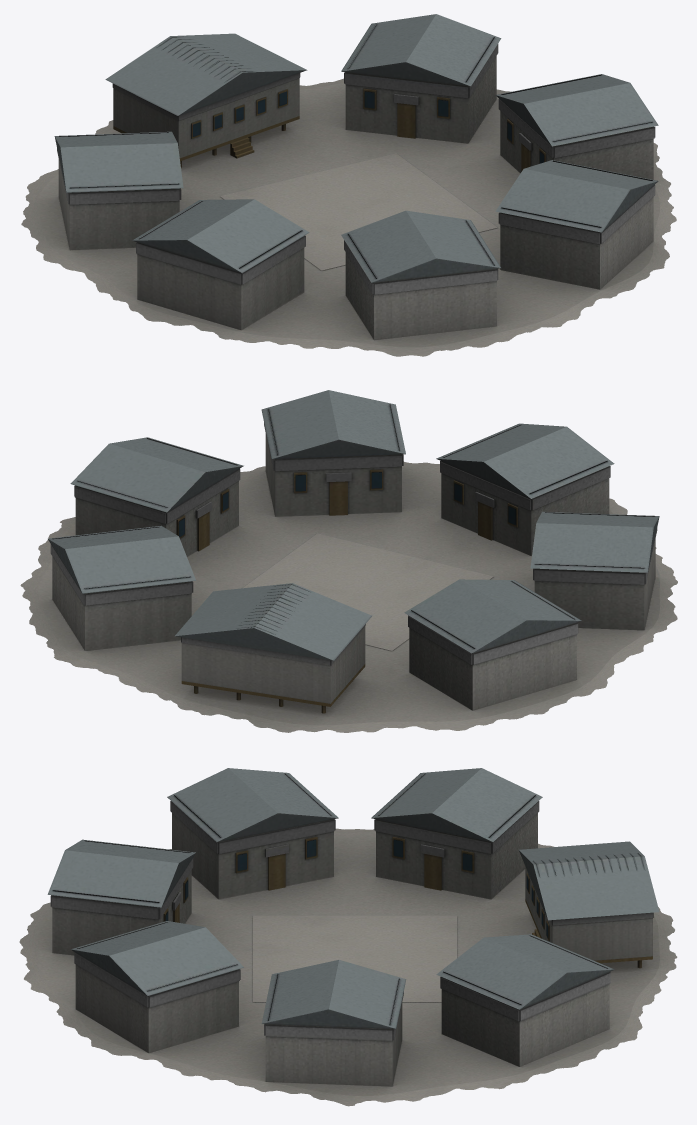
The model's file is modern-town-small-b-monsoon.glb.
3 renders of one model, top to bottom at view 1: azimuth 30°, elevation 25°; view 2: azimuth 150°, elevation 25°; view 3: azimuth 270°, elevation 25°, orthographic.
Visible parts, largest first — view 1: LOD0; view 2: LOD0; view 3: LOD0.
Boxes of the visible parts, x1=… form: LOD0: x1=21, y1=14, x2=676, y2=356; LOD0: x1=20, y1=390, x2=677, y2=732; LOD0: x1=19, y1=768, x2=677, y2=1106.
Size of what is drawn, in the model's own units: 4 by 0.5622 by 3.94.
3 materials, 3 textured.
